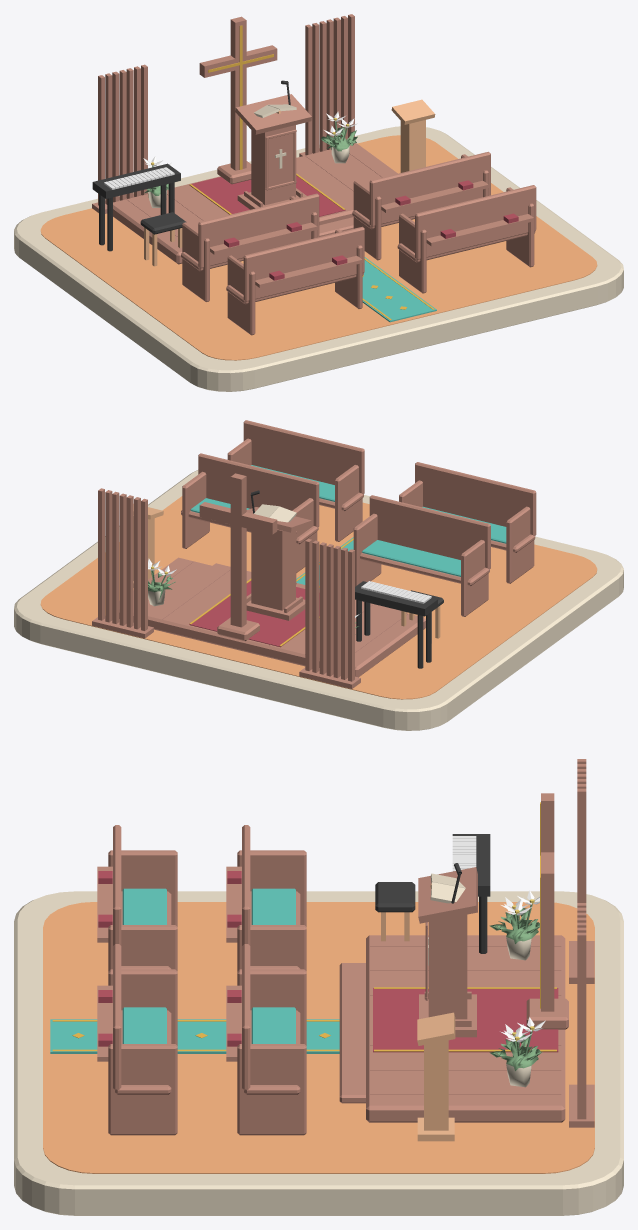
3 views of the same model, one above another, from view 1: azimuth 30°, elevation 25°; view 2: azimuth 150°, elevation 25°; view 3: azimuth 270°, elevation 25° (orthographic). The views are drawn at different scales.
Visible parts, largest first — view 1: COM-02 Floor Surface, COM-01 Rounded Base Direct, Sanctuary platform, Back.002, Back.003, Back.001, Back, Single joined wooden cross, Body, Aisle runner, Stage carpet, Reading top (+31 smaller); view 2: COM-02 Floor Surface, COM-01 Rounded Base Direct, Sanctuary platform, Back.002, Back, Back.003, Back.001, Single joined wooden cross, Body, Stage carpet, Seat cushion, End panel.005 (+28 smaller); view 3: COM-02 Floor Surface, COM-01 Rounded Base Direct, Sanctuary platform, Stage carpet, End panel.002, End panel.006, Aisle runner, Body, Entry step, Single joined wooden cross, End panel.004, End panel (+32 smaller).
Part boxes in pixels (x1,y1,x2,y2): COM-02 Floor Surface: (40,135,597,360); COM-01 Rounded Base Direct: (14,126,623,391); Sanctuary platform: (113,143,397,264); Back.002: (243,226,364,301); Back.003: (415,185,536,259); Back.001: (369,151,490,226); Back: (198,193,319,268); Single joined wooden cross: (199,16,277,170); Body: (251,125,295,205); Aisle runner: (362,257,436,322); Stage carpet: (189,175,345,216); Reading top: (235,94,311,134); COM-02 Floor Surface: (40,496,597,699); COM-01 Rounded Base Direct: (14,470,623,730); Sanctuary platform: (119,557,425,677); Back.002: (415,462,536,535); Back: (369,495,490,569); Back.003: (243,420,364,494); Back.001: (198,453,319,527); Single joined wooden cross: (199,473,277,627); Body: (251,529,295,610); Stage carpet: (189,581,319,647); Seat cushion: (362,540,460,576); End panel.005: (506,506,534,583); COM-02 Floor Surface: (43,902,594,1173); COM-01 Rounded Base Direct: (14,891,623,1215); Sanctuary platform: (366,935,565,1122); Stage carpet: (373,988,558,1052); End panel.002: (237,1044,306,1135); End panel.006: (108,1044,177,1135); Aisle runner: (50,1019,339,1053); Body: (428,914,467,1019); Entry step: (339,963,365,1103); Single joined wooden cross: (541,793,554,1011); End panel.004: (108,925,177,971); End panel: (237,925,306,971).
Bounding box in the file's own units: 6 × 2.56 × 5.2.
1 material, 1 textured.
